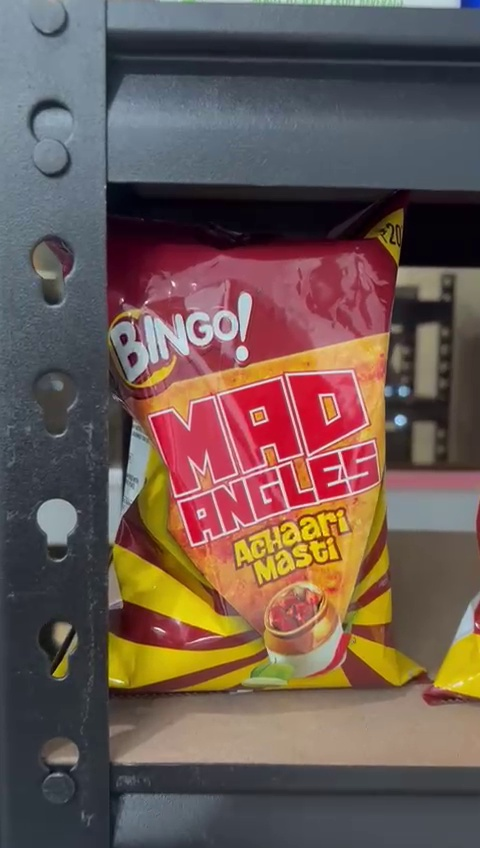Bingo Mad Angles: (103, 230, 414, 691)
